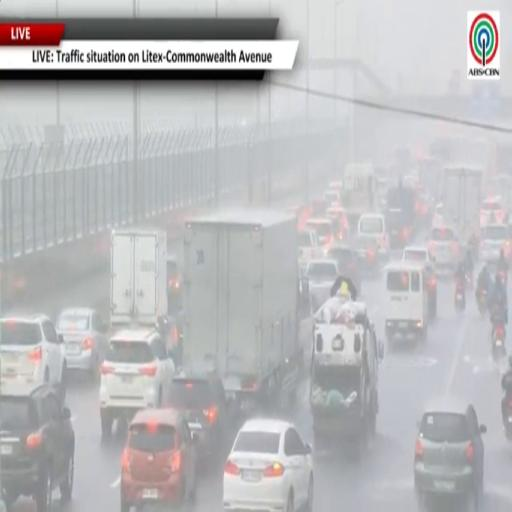car: (0, 384, 74, 511), (99, 327, 175, 437), (224, 419, 313, 511), (414, 396, 486, 509), (120, 408, 197, 511), (0, 314, 67, 401), (169, 368, 229, 460), (382, 262, 431, 343), (56, 308, 109, 379), (403, 246, 437, 317), (304, 260, 339, 311), (327, 246, 361, 295), (427, 226, 462, 273), (158, 310, 183, 367), (358, 214, 389, 257), (480, 223, 511, 263), (353, 236, 380, 275), (298, 230, 323, 269), (306, 218, 334, 250), (167, 255, 182, 312), (480, 198, 506, 228), (327, 206, 348, 239), (402, 246, 435, 266), (308, 199, 330, 218), (324, 188, 341, 206), (432, 203, 444, 228)
motorcycle: (492, 325, 506, 361), (455, 280, 465, 311), (504, 398, 511, 440), (477, 288, 487, 315), (498, 268, 507, 286), (465, 271, 473, 290)
truck: (183, 210, 303, 412), (310, 296, 383, 455), (110, 229, 167, 328), (443, 166, 483, 243), (341, 163, 378, 232), (385, 181, 415, 248), (418, 156, 443, 202)
